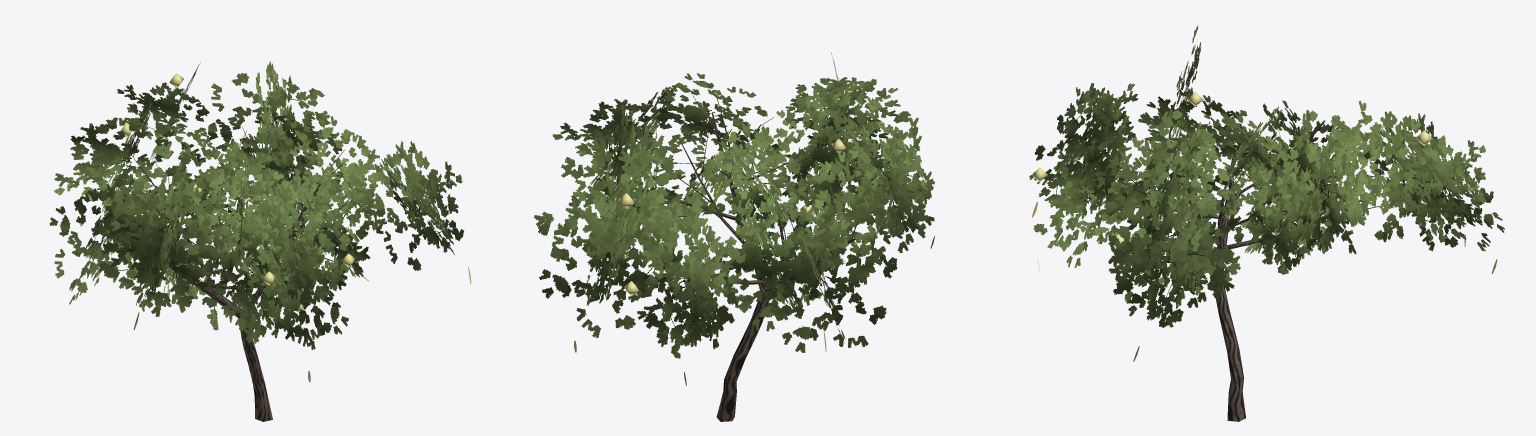
File: young-a.lod1.glb
3 renders of one model, left to right at view 1: azimuth 30°, elevation 25°; view 2: azimuth 150°, elevation 25°; view 3: azimuth 270°, elevation 25°, orthographic. The views are drawn at different scales.
Visible parts, largest first — view 1: foliage, bark, flowers; view 2: foliage, bark, flowers; view 3: foliage, bark, flowers.
Part boxes in pixels (<box>): foliage: <box>49,61,464,349</box>; bark: <box>119,126,368,421</box>; flowers: <box>120,73,355,312</box>; foliage: <box>534,52,934,358</box>; bark: <box>636,93,873,421</box>; flowers: <box>619,101,888,296</box>; foliage: <box>1029,25,1504,327</box>; bark: <box>1101,117,1421,421</box>; flowers: <box>1032,92,1479,247</box>.
Bounding box in the file's own units: 4.63 × 3.8 × 4.93.
Materials: 4 (2 with a texture image).
